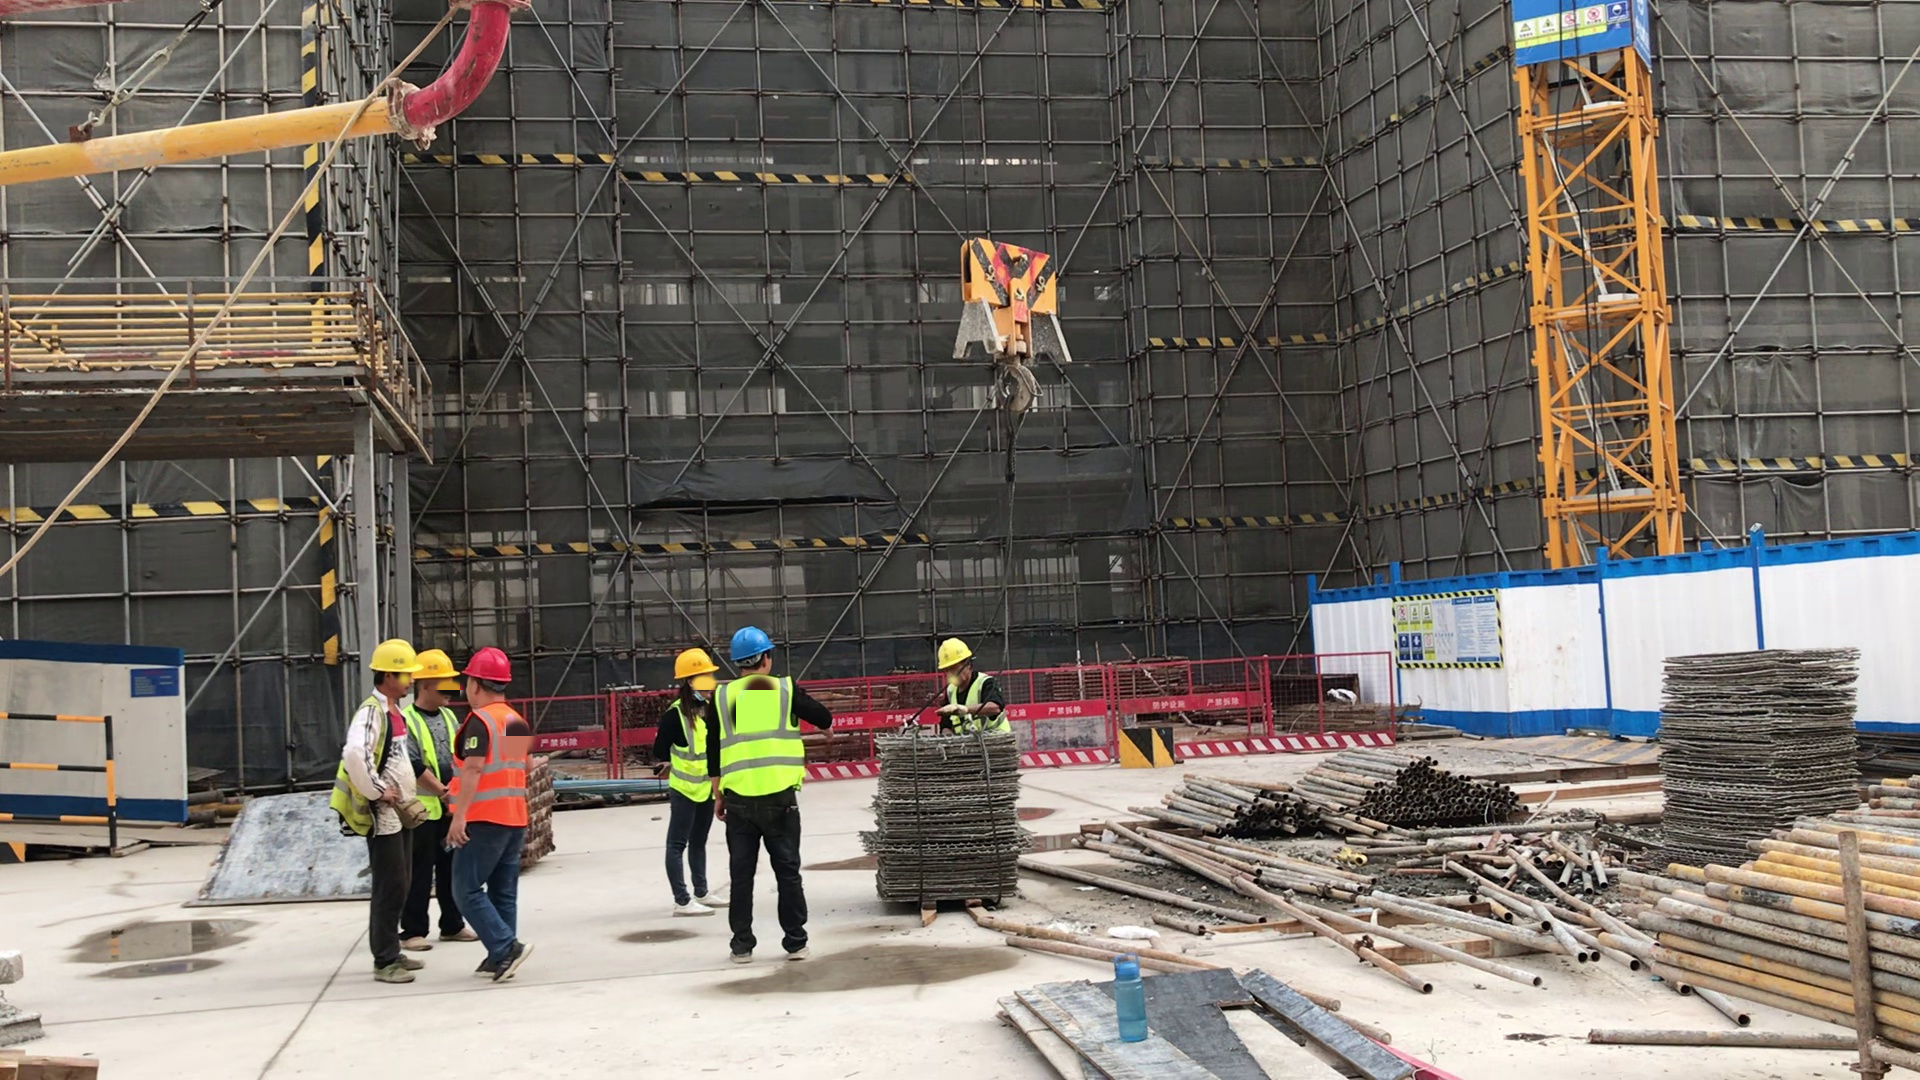fence: (1176, 650, 1397, 752), (4, 702, 121, 835), (1025, 654, 1108, 775), (840, 672, 870, 785)
helmet: (362, 638, 423, 675), (726, 626, 777, 666), (463, 648, 515, 685), (672, 649, 721, 680), (935, 636, 975, 670), (419, 648, 459, 680)
hook: (948, 230, 1073, 416)
person: (708, 627, 837, 964), (324, 637, 428, 986), (444, 645, 533, 980), (651, 647, 707, 919), (930, 633, 1015, 732)
scaffold: (1593, 767, 1920, 1069), (1325, 745, 1528, 826), (1121, 772, 1324, 838)
slogan: (1392, 598, 1502, 665), (1515, 4, 1628, 53)
vest: (712, 674, 807, 796), (449, 703, 530, 831), (328, 697, 394, 839), (665, 696, 707, 804), (948, 676, 1011, 731)
